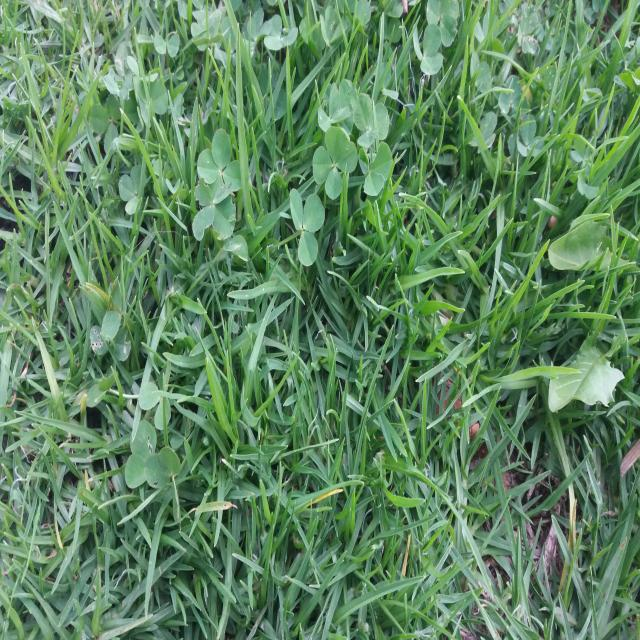Four Leaf Clover: (312, 126, 358, 200), (192, 177, 236, 240)
